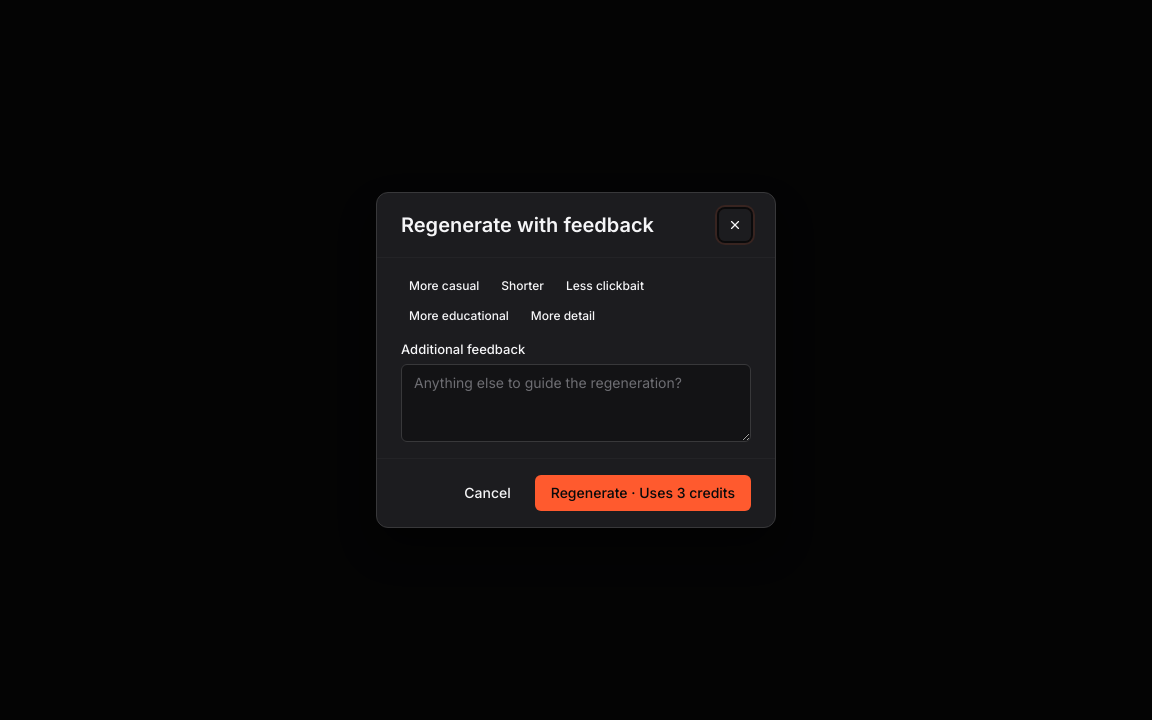
it: RegenerateModal › on insufficient credits, shows the balance/required message
Click the button "Regenerate · Uses 3 credits".
click(643, 493)  # box [535, 475, 751, 511]
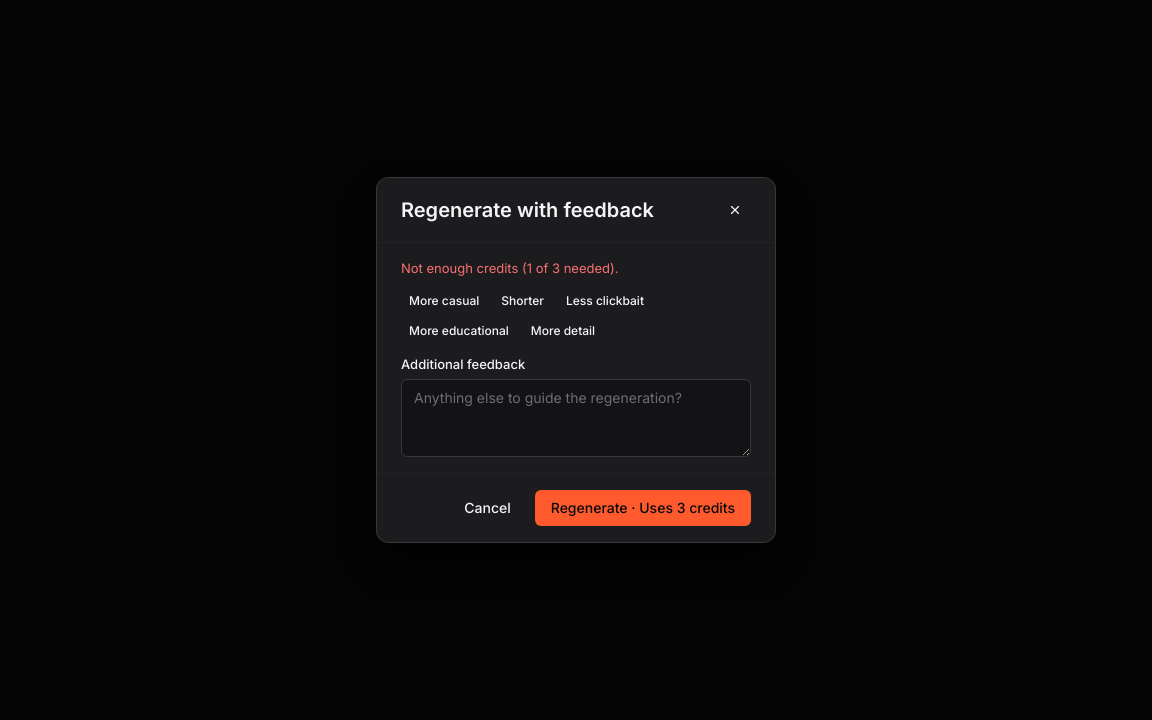
Check: the text "Not enough credits (1 of 3 needed)." is shown, box [401, 260, 618, 276]
